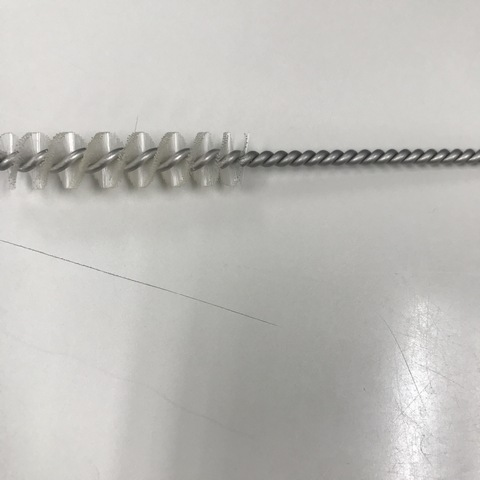Twist Brush-B: (1, 132, 480, 197)
